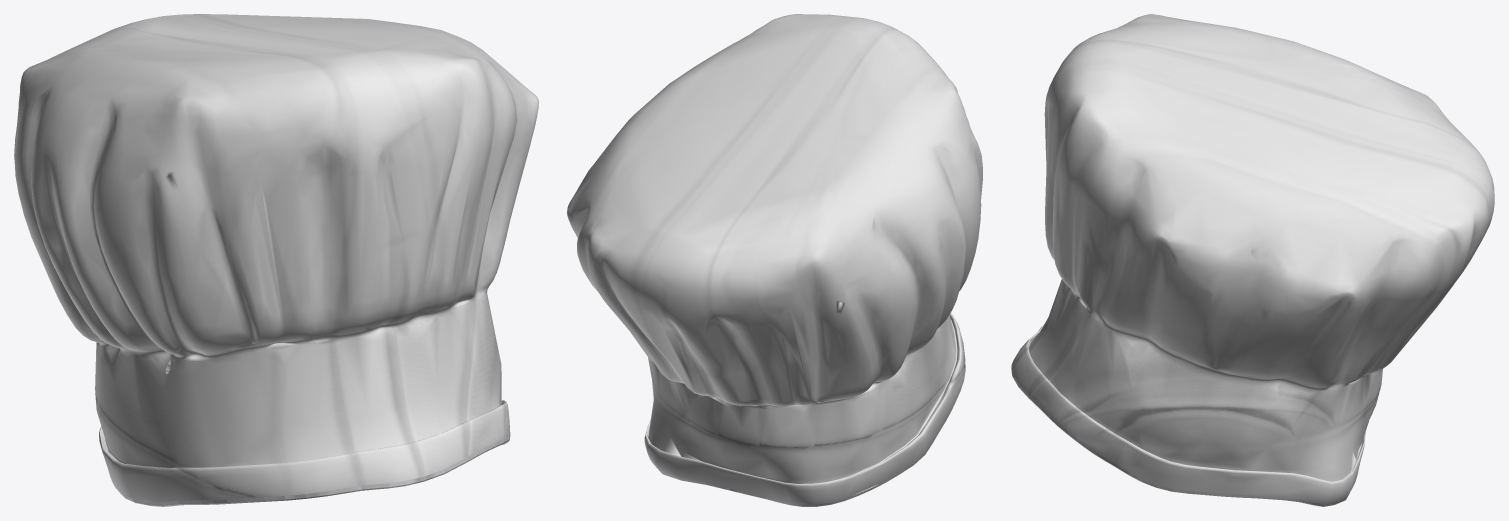
File: toque.fbx
3 renders of one model, left to right at view 1: azimuth 30°, elevation 25°; view 2: azimuth 150°, elevation 25°; view 3: azimuth 270°, elevation 25°, orthographic. The views are drawn at different scales.
Visible parts, largest first — view 1: toque; view 2: toque; view 3: toque.
Boxes of the visible parts, left/top/right/bottom form: toque: left=14, top=14, right=538, bottom=506; toque: left=567, top=14, right=982, bottom=506; toque: left=1011, top=14, right=1494, bottom=506.
Size of the model in its own units: 40.72 by 42.64 by 45.96.
